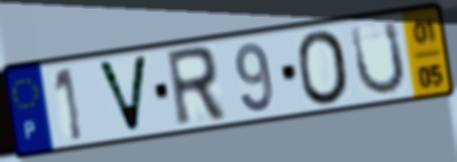1: (52, 64, 85, 143)
9: (231, 41, 275, 115)
O: (294, 27, 353, 108)
R: (163, 43, 229, 131)
U: (348, 17, 409, 98)
V: (93, 53, 151, 136)
